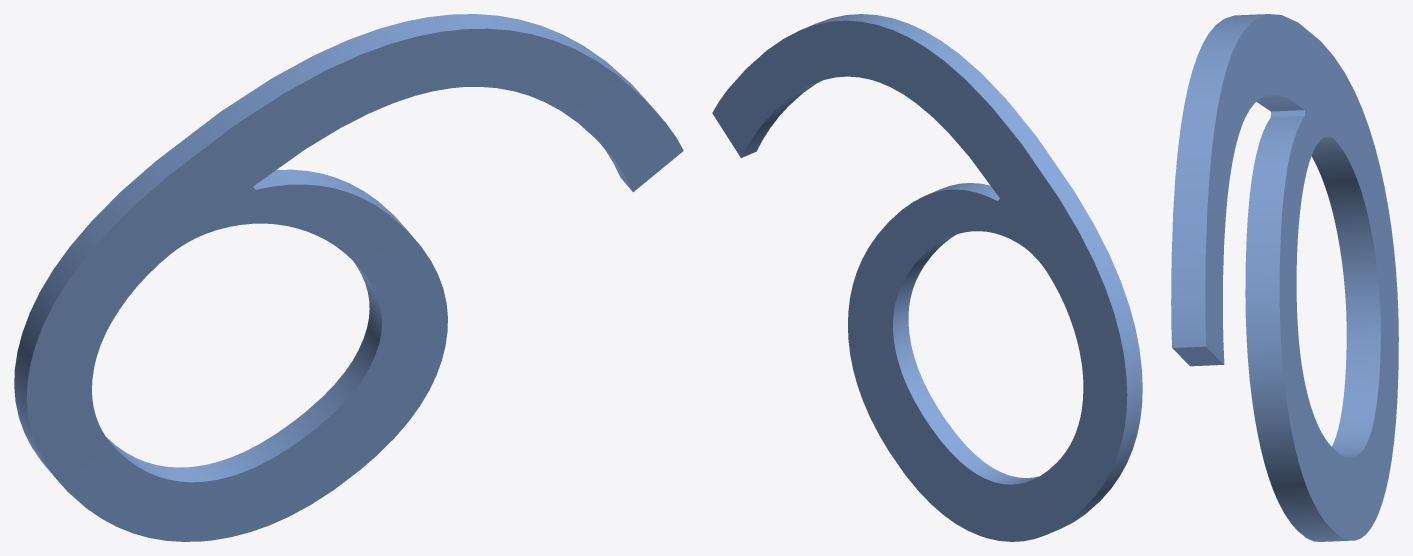
The model's file is New_Number_6.gltf.
3 renders of one model, left to right at view 1: azimuth 30°, elevation 25°; view 2: azimuth 150°, elevation 25°; view 3: azimuth 270°, elevation 25°, orthographic. The views are drawn at different scales.
Visible parts, largest first — view 1: Part 96; view 2: Part 96; view 3: Part 96.
Part boxes in pixels (x1,y1,x2,y2): Part 96: [14, 14, 683, 541]; Part 96: [712, 14, 1142, 541]; Part 96: [1171, 14, 1398, 541].
Bounding box in the file's own units: 0.00545 × 0.00466 × 0.00169.
